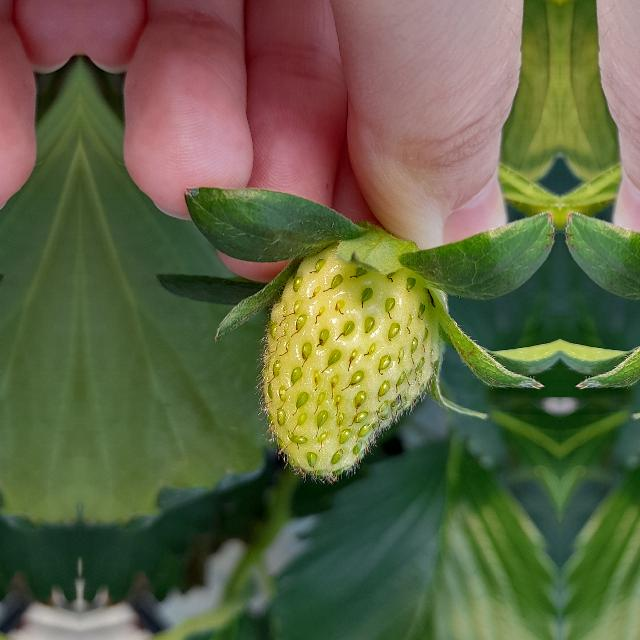Health_25: (253, 242, 439, 484)
